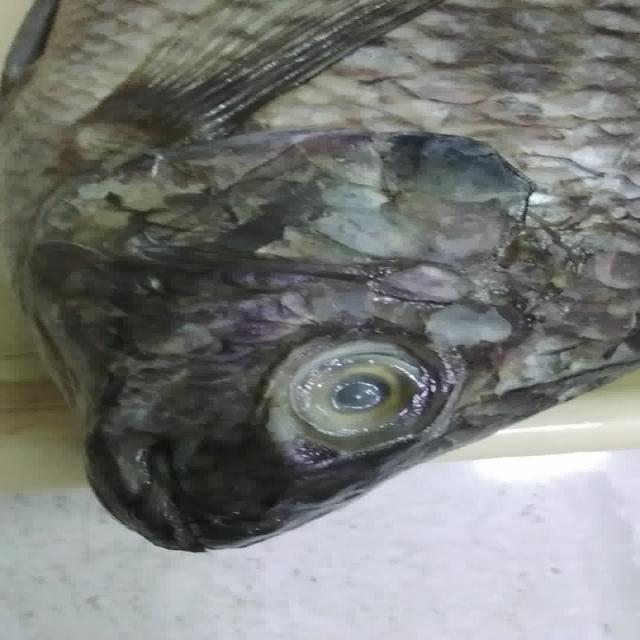Non-Fresh: (249, 316, 454, 458)
